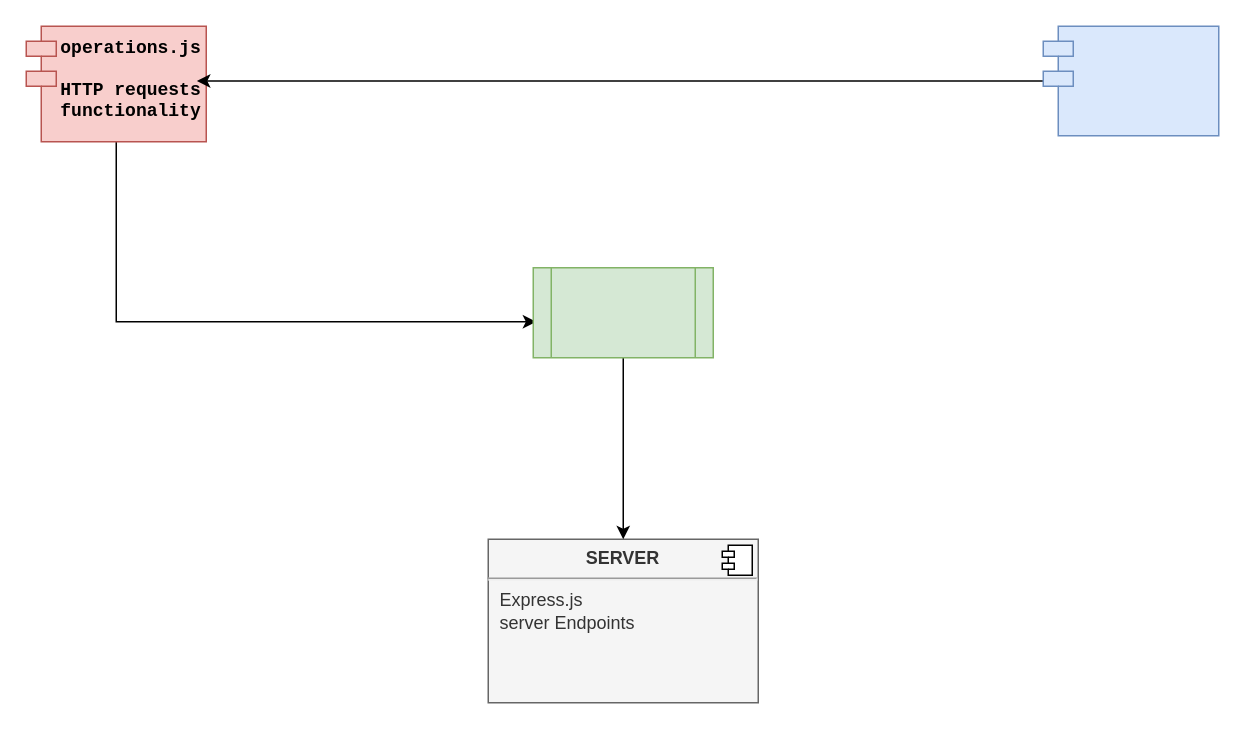
Some shapes in this 1245 by 729 pixel diagram are drawn without their labels. The centre of each missing label's shape, as x and y in pixels:
database.js mongoDB: point 1130,80
Route people.js: point 622,312
